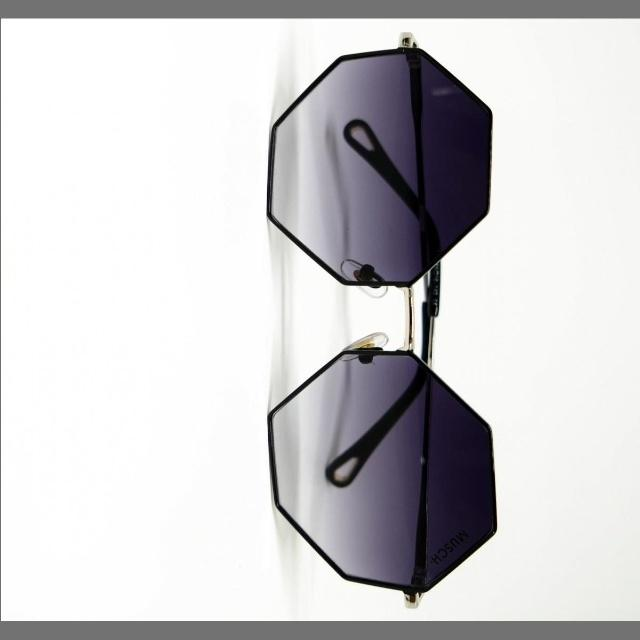Sunglasses: (237, 26, 538, 618)
